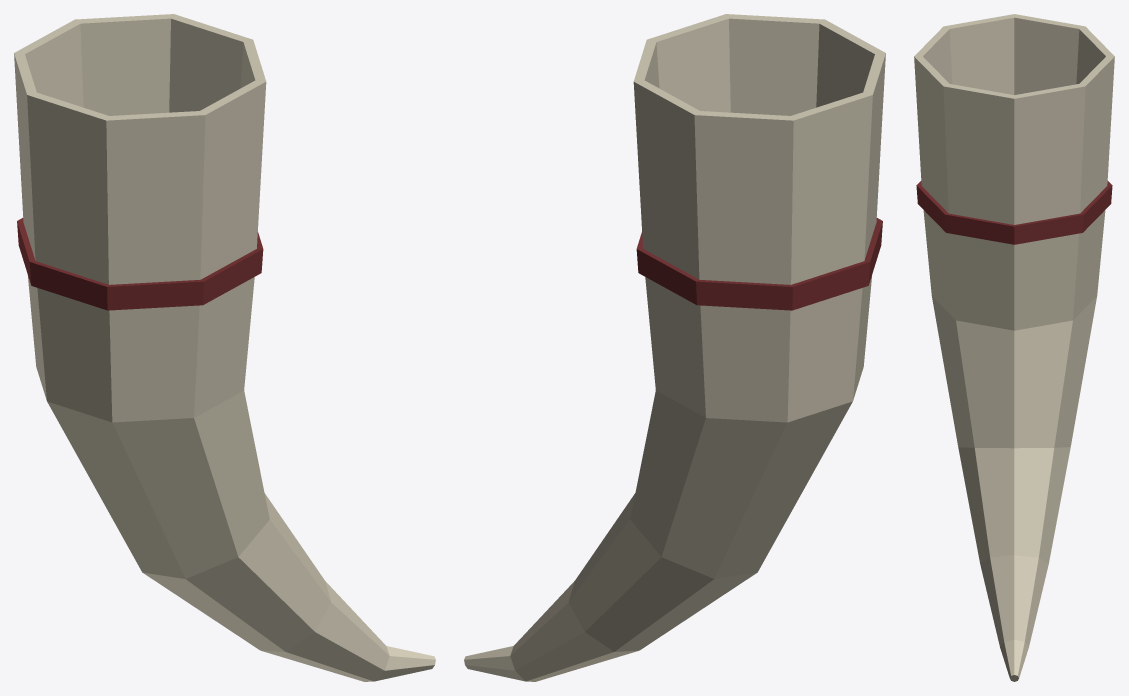
Rendered from Horn.fbx.
3 renders of one model, left to right at view 1: azimuth 30°, elevation 25°; view 2: azimuth 150°, elevation 25°; view 3: azimuth 270°, elevation 25°, orthographic. The views are drawn at different scales.
Visible parts, largest first — view 1: Cylinder.001; view 2: Cylinder.001; view 3: Cylinder.001.
Part boxes in pixels (x1,y1,x2,y2): Cylinder.001: (14, 14, 435, 681); Cylinder.001: (464, 14, 885, 681); Cylinder.001: (914, 14, 1114, 681).
Bounding box in the file's own units: 15.82 × 24.96 × 8.78.
